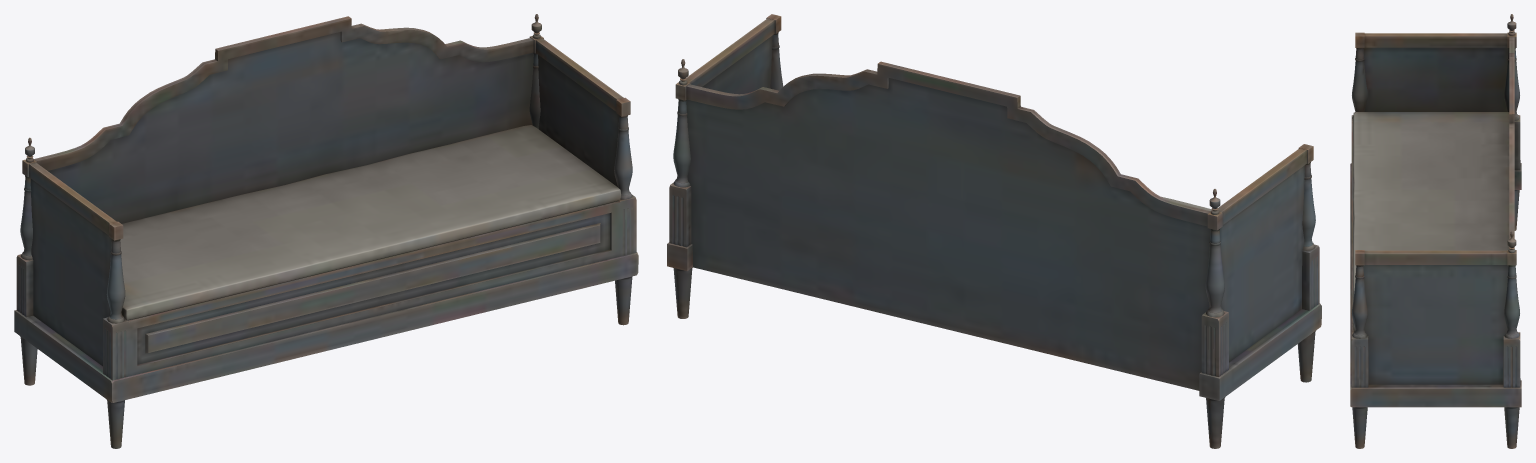
The model's file is sofa-painted-wood.lite.96f978ad.glb.
3 renders of one model, left to right at view 1: azimuth 30°, elevation 25°; view 2: azimuth 150°, elevation 25°; view 3: azimuth 270°, elevation 25°, orthographic. The views are drawn at different scales.
Visible parts, largest first — view 1: model; view 2: model; view 3: model.
Part boxes in pixels (box(x1,y1,x2,y2)): model: box(14, 14, 638, 448); model: box(667, 14, 1321, 448); model: box(1350, 14, 1521, 448).
Bounding box in the file's own units: 2.45 × 1.28 × 0.7873.
1 material, 1 textured.
